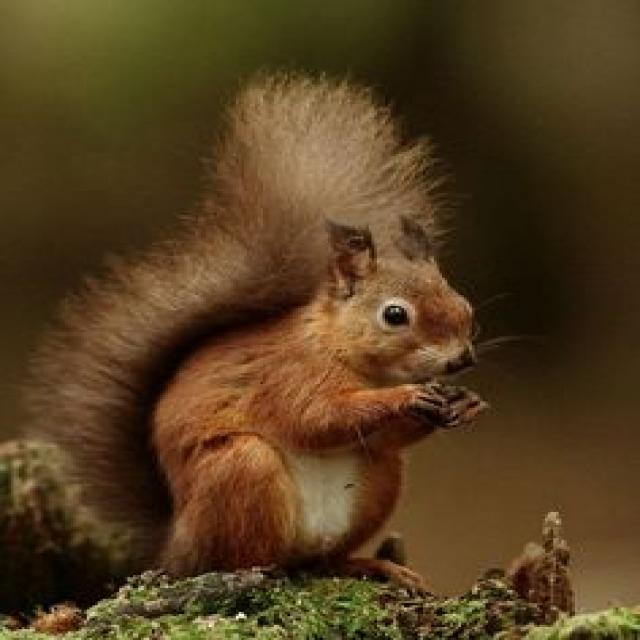Herbivorous: (22, 72, 488, 584)
